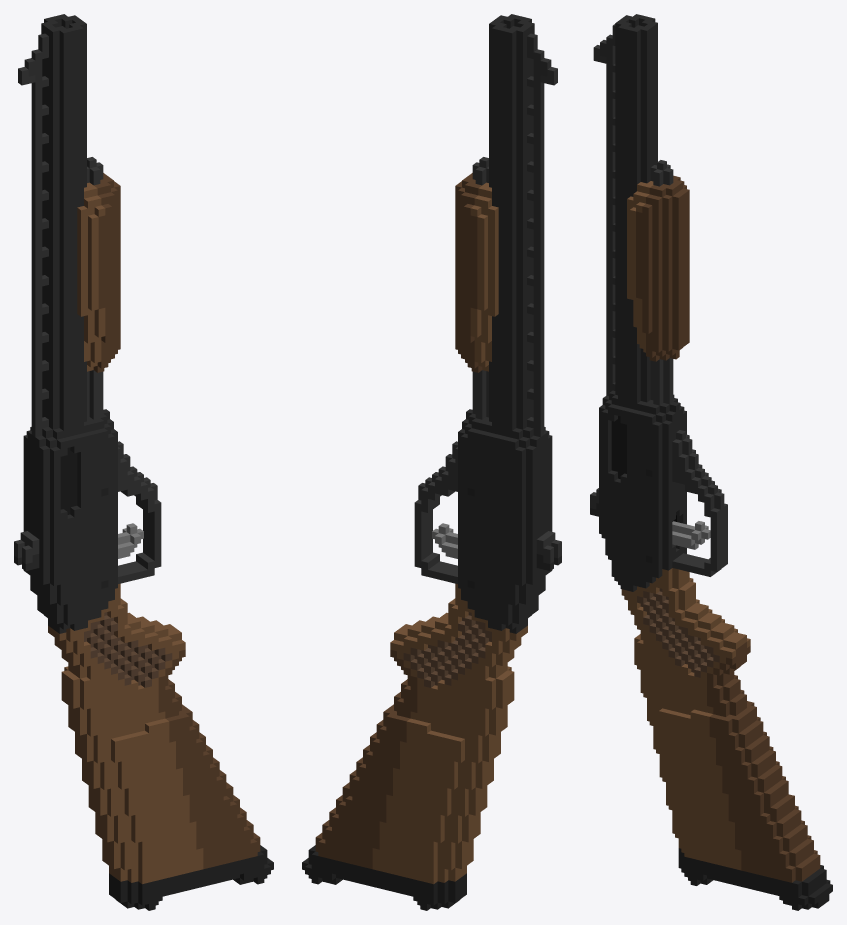
The model's file is shotgun.obj.
3 renders of one model, left to right at view 1: azimuth 30°, elevation 25°; view 2: azimuth 150°, elevation 25°; view 3: azimuth 330°, elevation 25°, orthographic. The views are drawn at different scales.
Size of the model in its own units: 3.6 by 12.6 by 0.9.
1 material, 1 textured.
